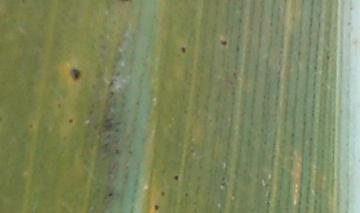tarspot: (68, 67, 82, 81), (218, 37, 229, 48), (179, 45, 187, 55), (153, 202, 161, 212), (159, 189, 167, 198), (106, 191, 114, 199), (172, 174, 180, 181), (66, 117, 74, 123), (56, 102, 62, 109), (27, 122, 33, 129)
